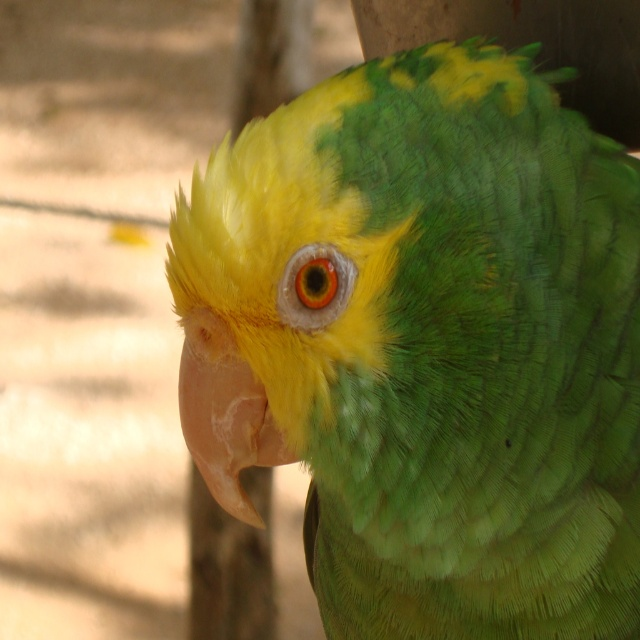Parrot: (164, 33, 640, 639)
